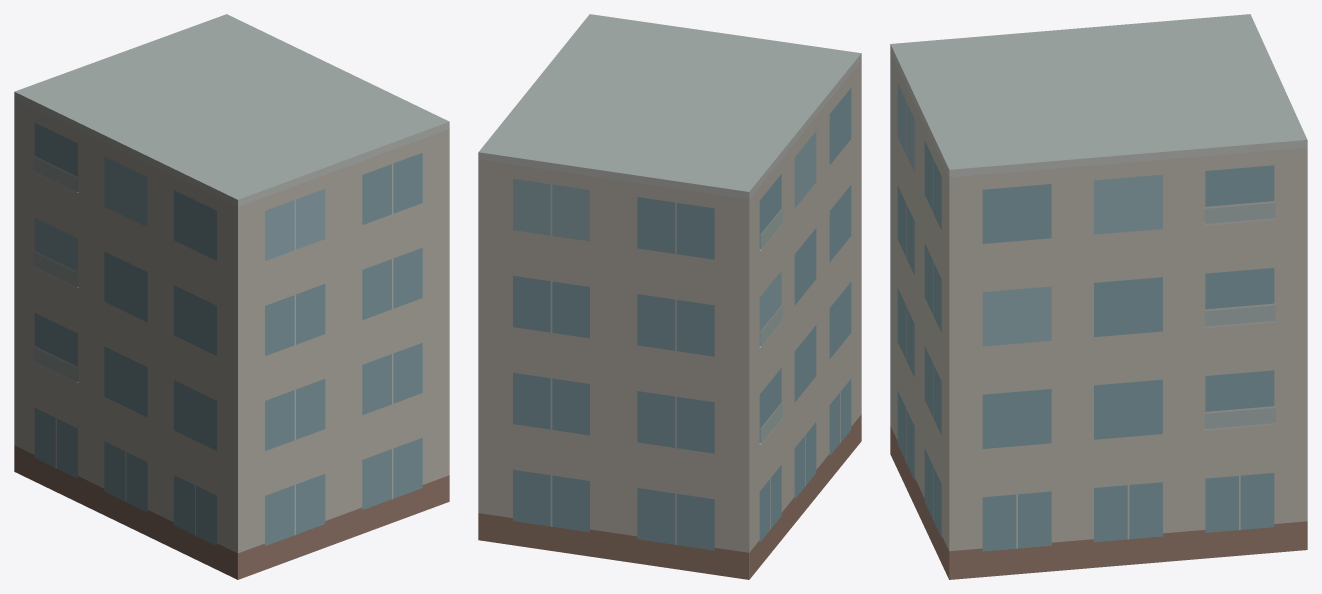
Rendered from survey-upis-32642352.glb.
3 renders of one model, left to right at view 1: azimuth 30°, elevation 25°; view 2: azimuth 150°, elevation 25°; view 3: azimuth 270°, elevation 25°, orthographic. The views are drawn at different scales.
Visible parts, largest first — view 1: survey-upis-32642352.tmp; view 2: survey-upis-32642352.tmp; view 3: survey-upis-32642352.tmp.
Part boxes in pixels (box(x1,y1,x2,y2)): survey-upis-32642352.tmp: box(14, 14, 449, 579); survey-upis-32642352.tmp: box(478, 14, 861, 579); survey-upis-32642352.tmp: box(890, 14, 1307, 579).
Size of the model in its own units: 10.6 by 13 by 11.99.
